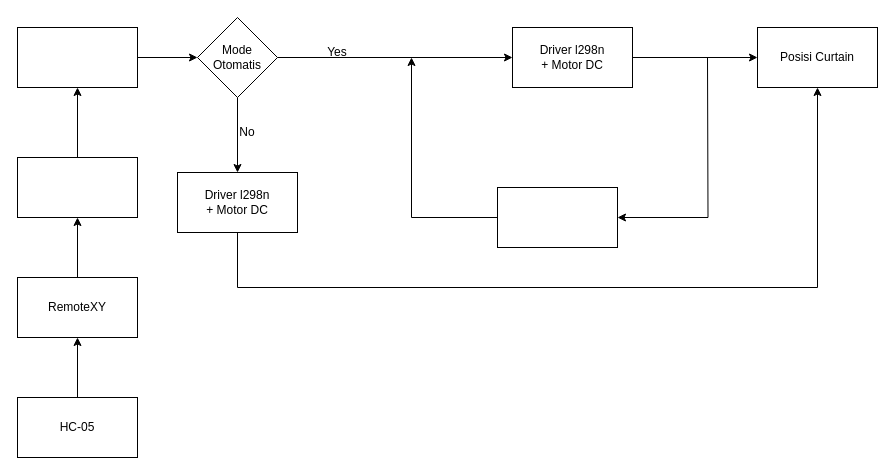
Some shapes in this 895 by 475 pixel diagram are drawn without their labels. Here are the shapes that lost their labels. From the top down, the centre of each, then its label:
(77,57): Arduino Nano
(77,187): Bluetooth
(557,217): LDR
